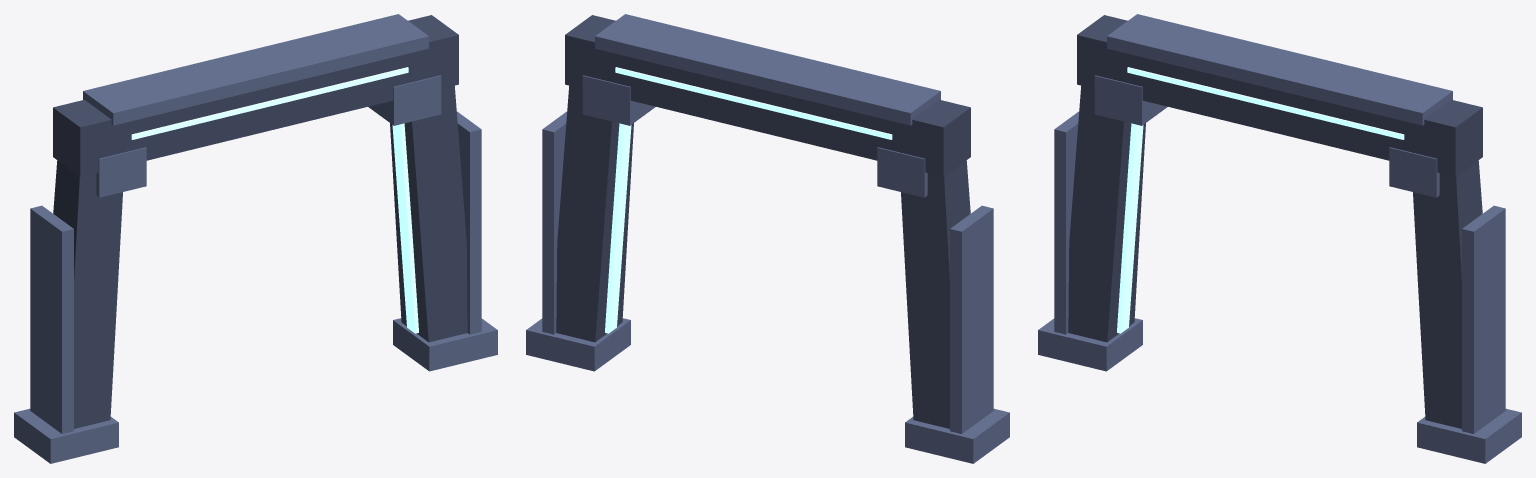
Rendered from EnvArchway.fbx.
The picture shows the model from 3 angles, left to right: view 1: azimuth 30°, elevation 25°; view 2: azimuth 150°, elevation 25°; view 3: azimuth 330°, elevation 25°; orthographic projection.
Visible parts, largest first — view 1: EnvArchway; view 2: EnvArchway; view 3: EnvArchway.
Part boxes in pixels (box(x1,y1,x2,y2)): EnvArchway: box(14, 14, 497, 463); EnvArchway: box(526, 14, 1009, 463); EnvArchway: box(1038, 14, 1521, 463).
Bounding box in the file's own units: 17 × 12.08 × 2.4.
